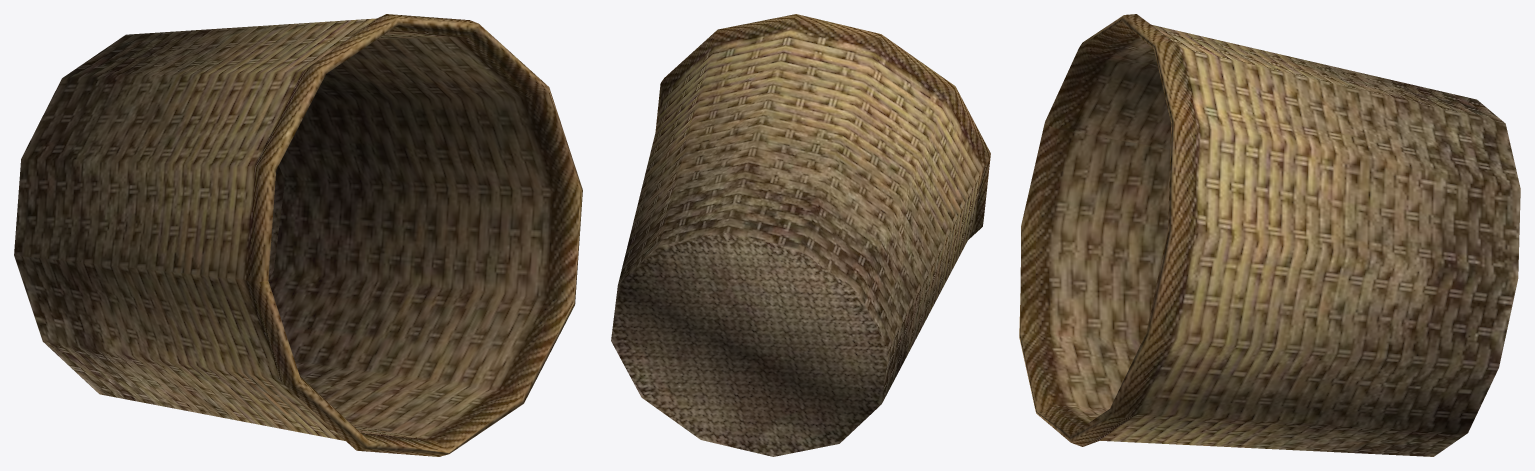
File: resourcebasket-base.glb
3 renders of one model, left to right at view 1: azimuth 30°, elevation 25°; view 2: azimuth 150°, elevation 25°; view 3: azimuth 270°, elevation 25°, orthographic. The views are drawn at different scales.
Size of the model in its own units: 0.4008 by 0.3992 by 0.416.
Materials: 1 (1 with a texture image).
